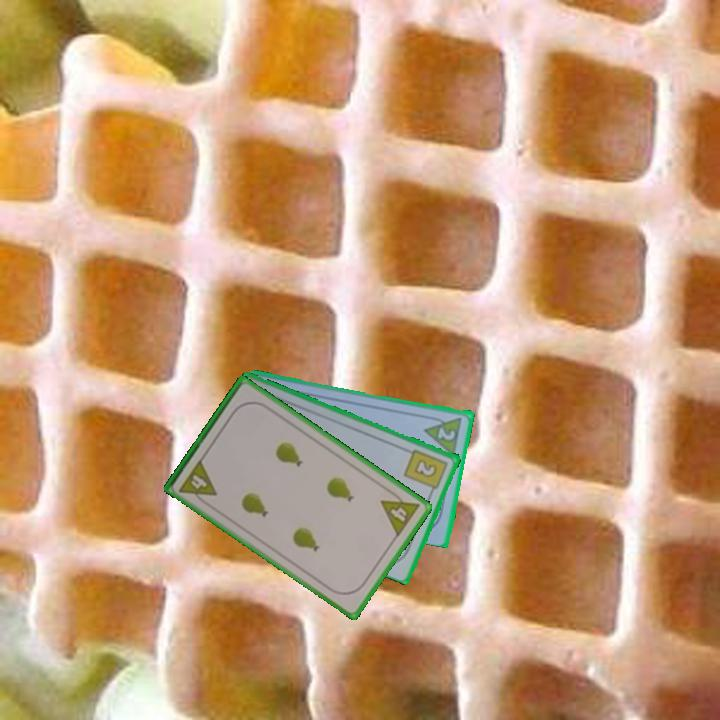2b: (401, 446, 451, 497)
2p: (434, 424, 459, 443)
4p: (377, 486, 423, 540), (176, 456, 220, 508)
